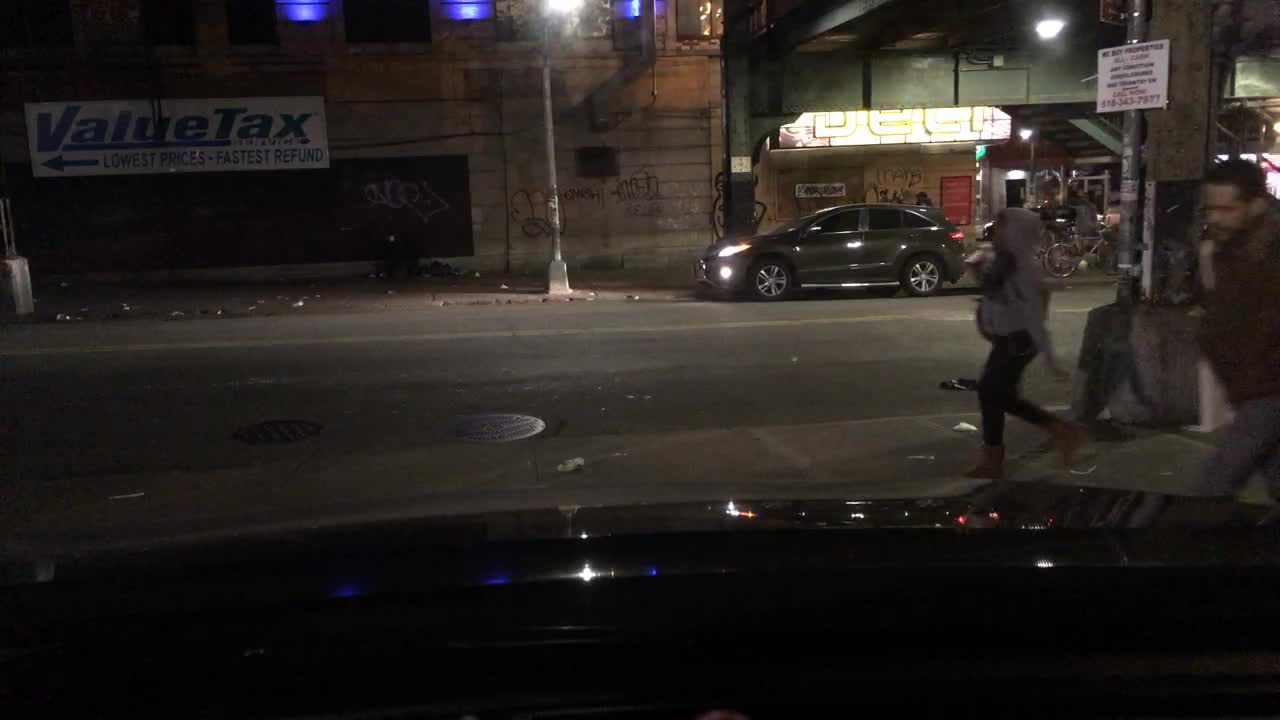bike: (1043, 220, 1120, 278)
car: (691, 203, 969, 301), (979, 199, 1100, 237)
person: (963, 204, 1087, 480), (1194, 157, 1278, 501), (911, 189, 934, 203)
traffic sign: (1099, 0, 1124, 24)
